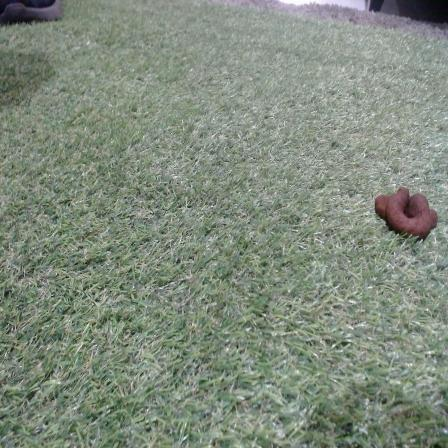dog-poop: (374, 186, 438, 236)
